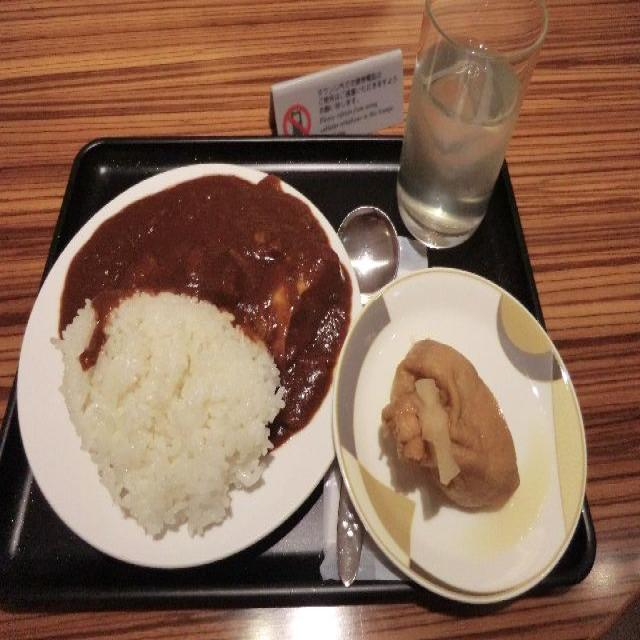Beef Curry: (64, 180, 348, 328)
Rice: (64, 320, 276, 536)
